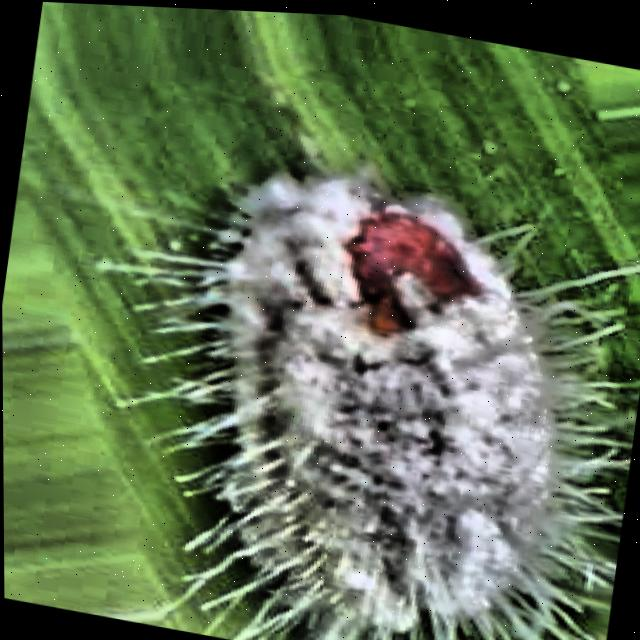Mealy-bug: (98, 84, 640, 640)
